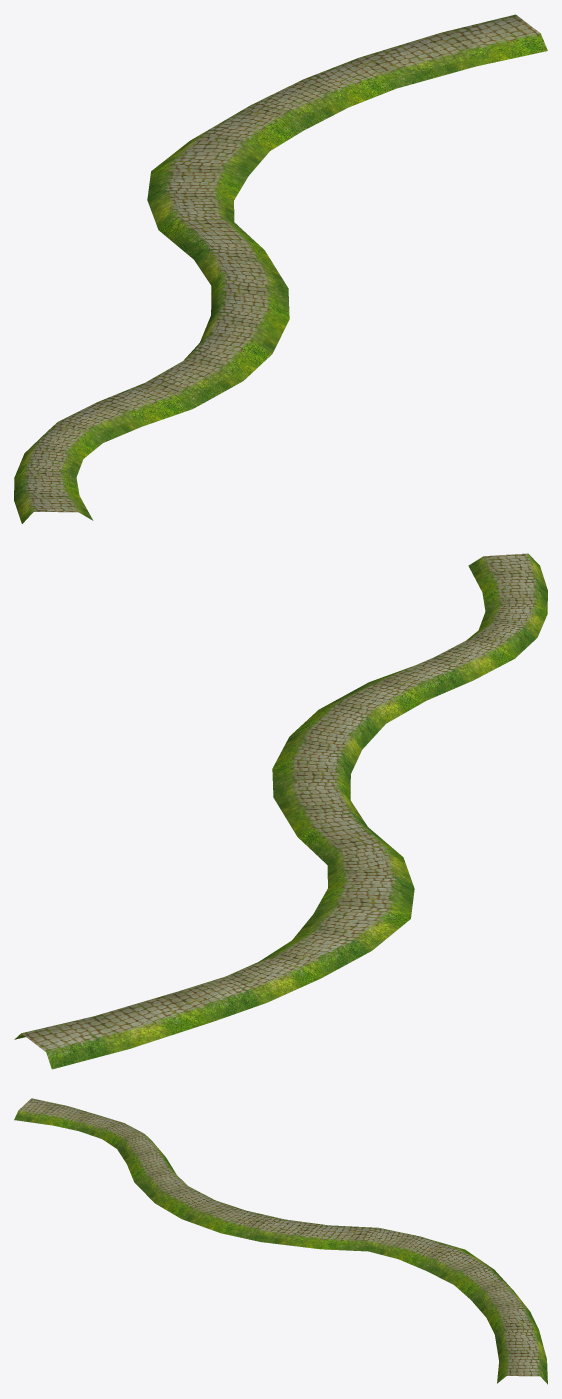
3 views of the same model, one above another, from view 1: azimuth 30°, elevation 25°; view 2: azimuth 210°, elevation 25°; view 3: azimuth 270°, elevation 25° (orthographic). The views are drawn at different scales.
Visible parts, largest first — view 1: rd_ro6-col; view 2: rd_ro6-col; view 3: rd_ro6-col.
Boxes of the visible parts, x1,y1,x2,y2 form: rd_ro6-col: (14,14,547,523); rd_ro6-col: (14,553,547,1069); rd_ro6-col: (14,1098,547,1384).
Bounding box in the file's own units: 47.93 × 0.8 × 38.56.
Materials: 1 (1 with a texture image).
